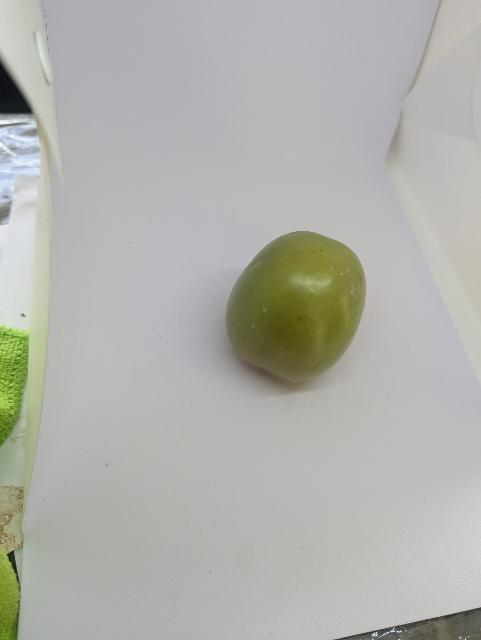green: (201, 227, 389, 391)
